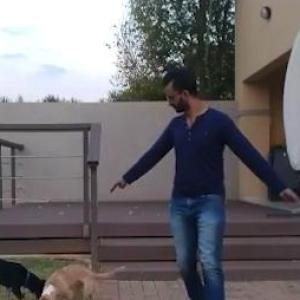land: (109, 67, 298, 299)
